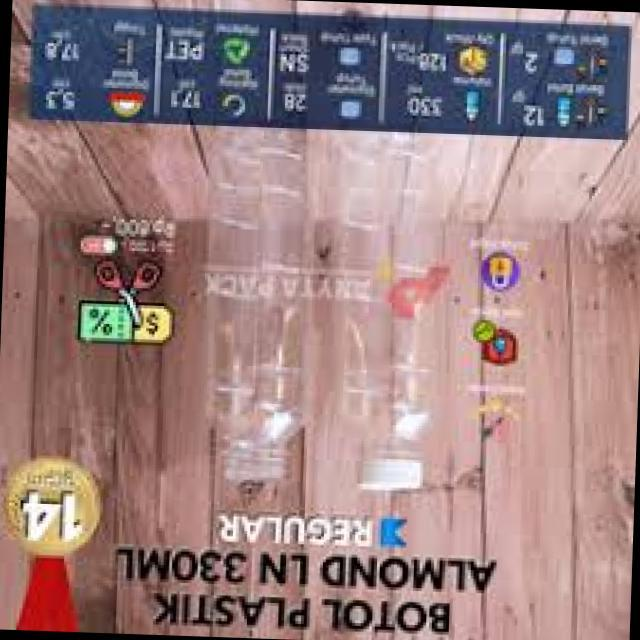good: (314, 140, 449, 498), (186, 130, 312, 494)
